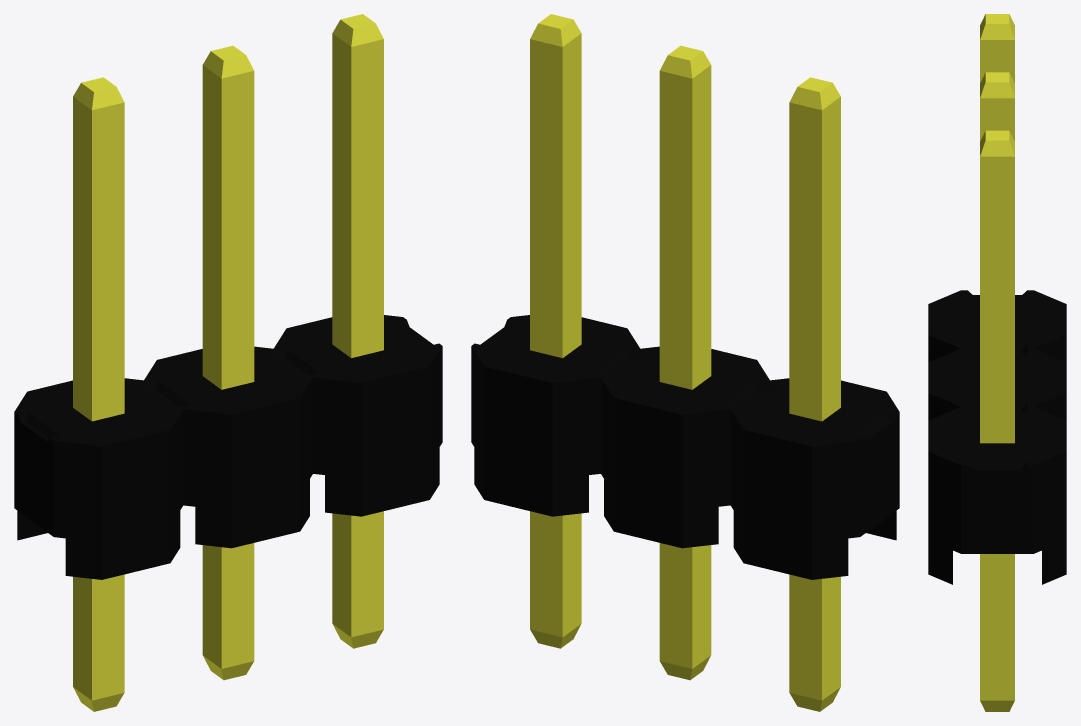
Rendered from connectors.fbx.
3 views of the same model, side by side, from view 1: azimuth 30°, elevation 25°; view 2: azimuth 150°, elevation 25°; view 3: azimuth 270°, elevation 25° (orthographic). The views are drawn at different scales.
Parts seen in each view (by area): view 1: PLS-3.001; view 2: PLS-3.001; view 3: PLS-3.001.
Boxes of the visible parts, <box> form: PLS-3.001: <box>14,14,442,711</box>; PLS-3.001: <box>471,14,899,711</box>; PLS-3.001: <box>928,14,1066,711</box>.
Bounding box in the file's own units: 21 × 31.97 × 7.
